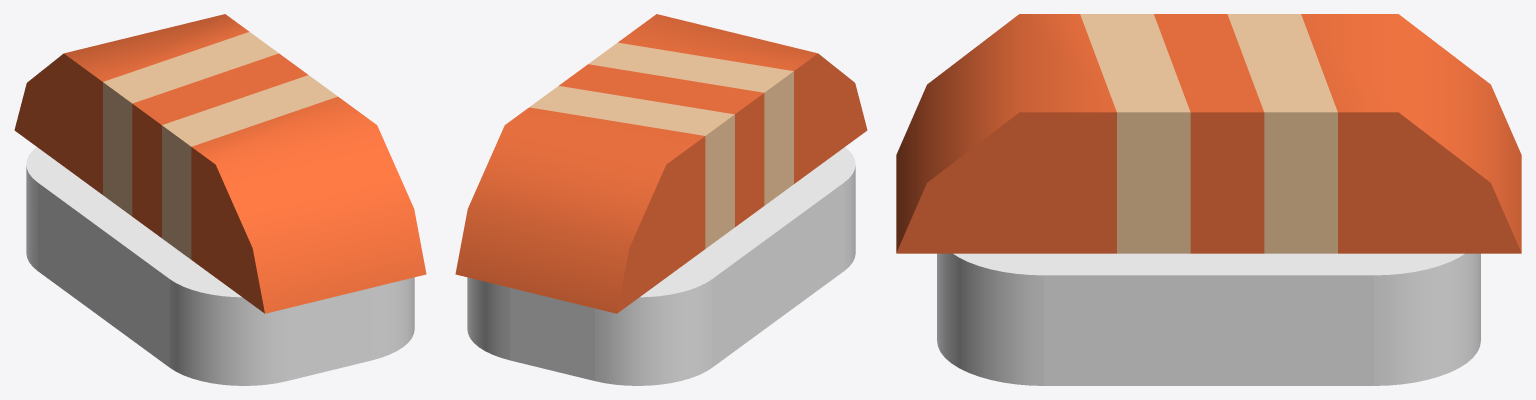
The model's file is sushiSalmon.dae.
3 views of the same model, side by side, from view 1: azimuth 30°, elevation 25°; view 2: azimuth 150°, elevation 25°; view 3: azimuth 270°, elevation 25° (orthographic). The views are drawn at different scales.
Visible parts, largest first — view 1: salmon, sushiSalmon; view 2: salmon, sushiSalmon; view 3: salmon, sushiSalmon.
Part boxes in pixels (box(x1,y1,x2,y2)): salmon: box(14, 14, 426, 313); sushiSalmon: box(26, 147, 414, 385); salmon: box(455, 14, 867, 313); sushiSalmon: box(467, 147, 855, 385); salmon: box(896, 14, 1521, 253); sushiSalmon: box(937, 253, 1480, 385).
Bounding box in the file's own units: 0.1079 × 0.0892 × 0.2008.
